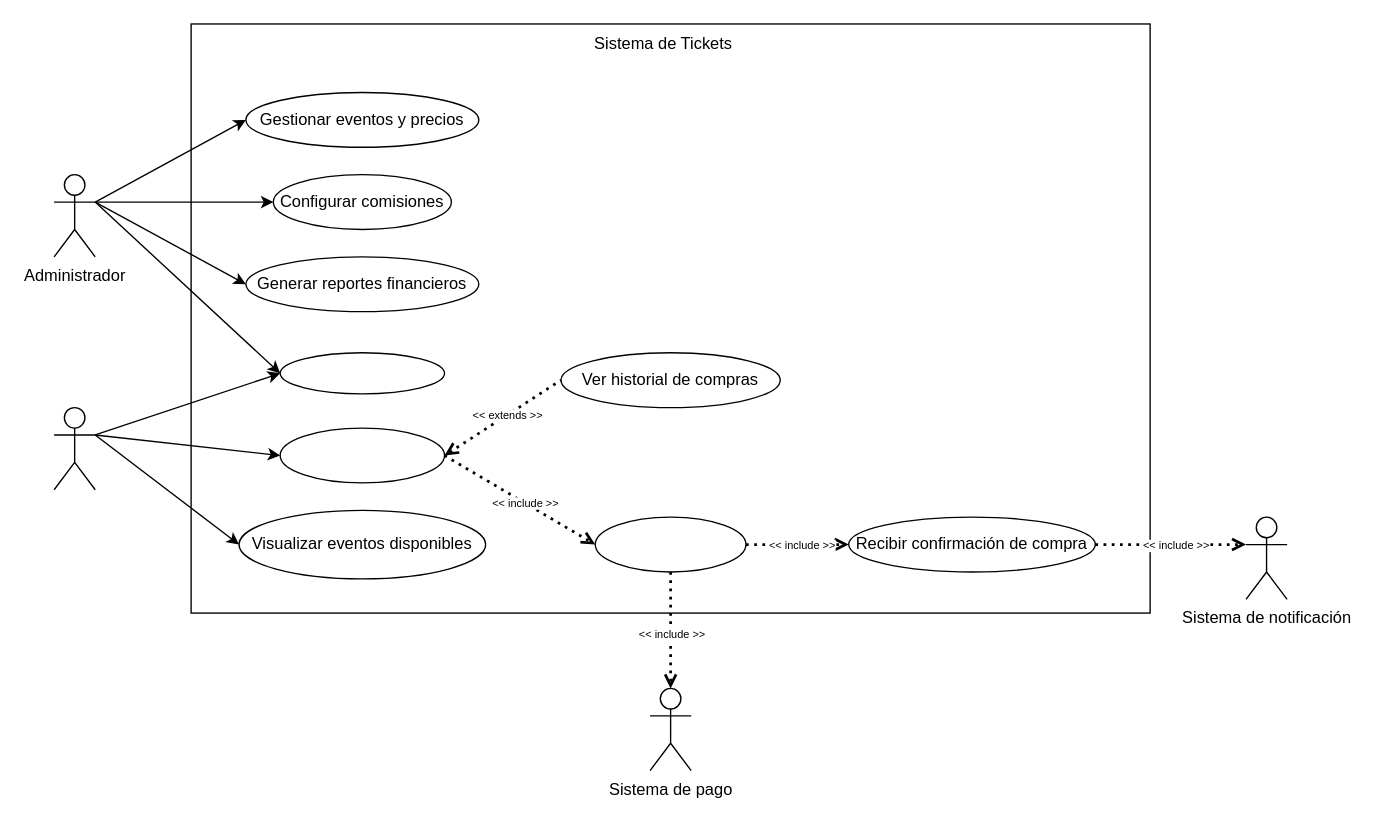
Image size: 1374x823. Some labels were removed from this diagram. The centre of each missing label's shape, as x and y in pixels:
"Autenticarse" belongs at point 362,372.
"Pagar tiquetes" belongs at point 670,544.
"Reservar tiquetes" belongs at point 362,455.
"Revendedor" belongs at point 74,448.
